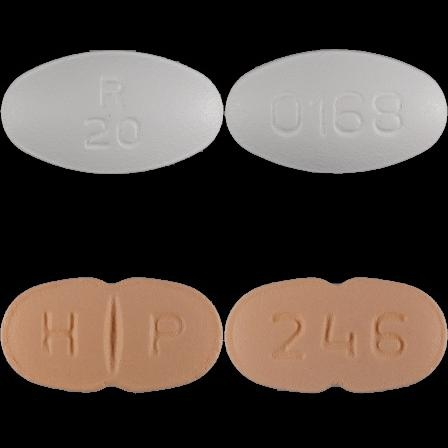61786-714: (0, 0, 224, 224)
